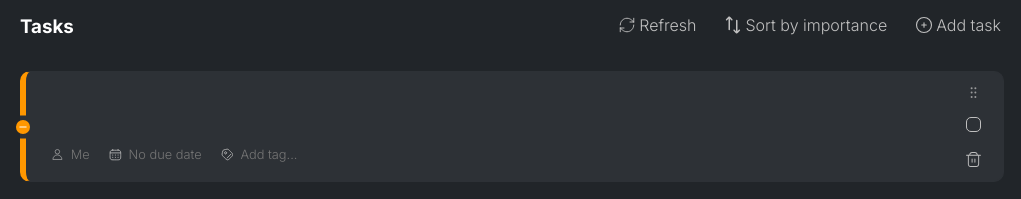
Test: Task edit durability › does not save a tag while the user is still typing it
Type "half-typed" into the field with placeholder "Add tag...".
click(269, 154); type("half-typed")  # box [236,141,301,168]
Wait 5000 ms
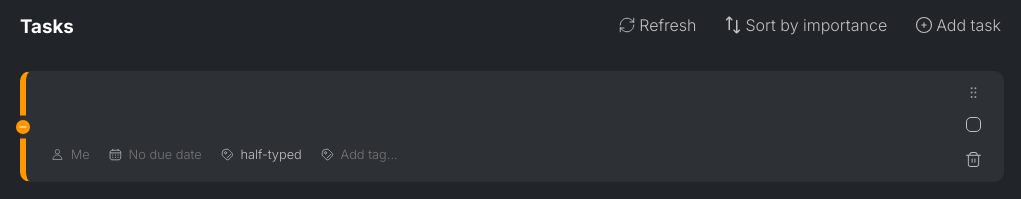
Now the number of fields with placeholder "Add tag..." is 2, box [236,141,306,168]; [337,141,402,168]
Now the field with placeholder "Add tag..." is empty, box [337,141,402,168]
